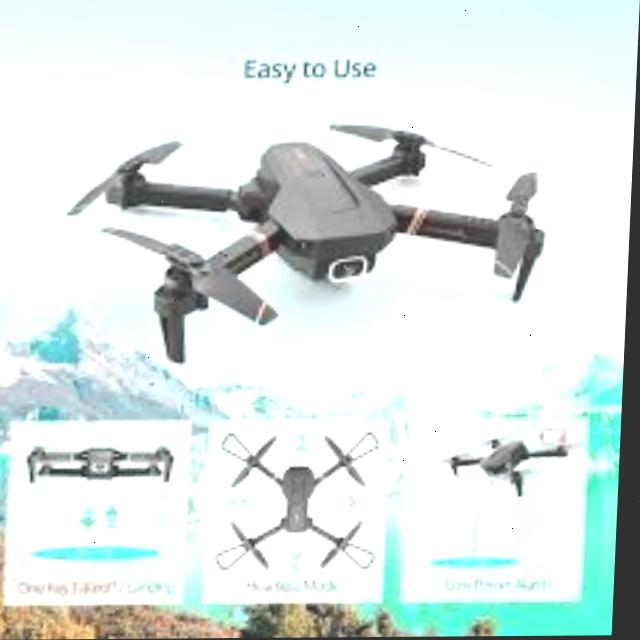drone: (43, 107, 577, 361), (210, 424, 395, 581), (429, 428, 590, 500), (21, 432, 182, 498)
